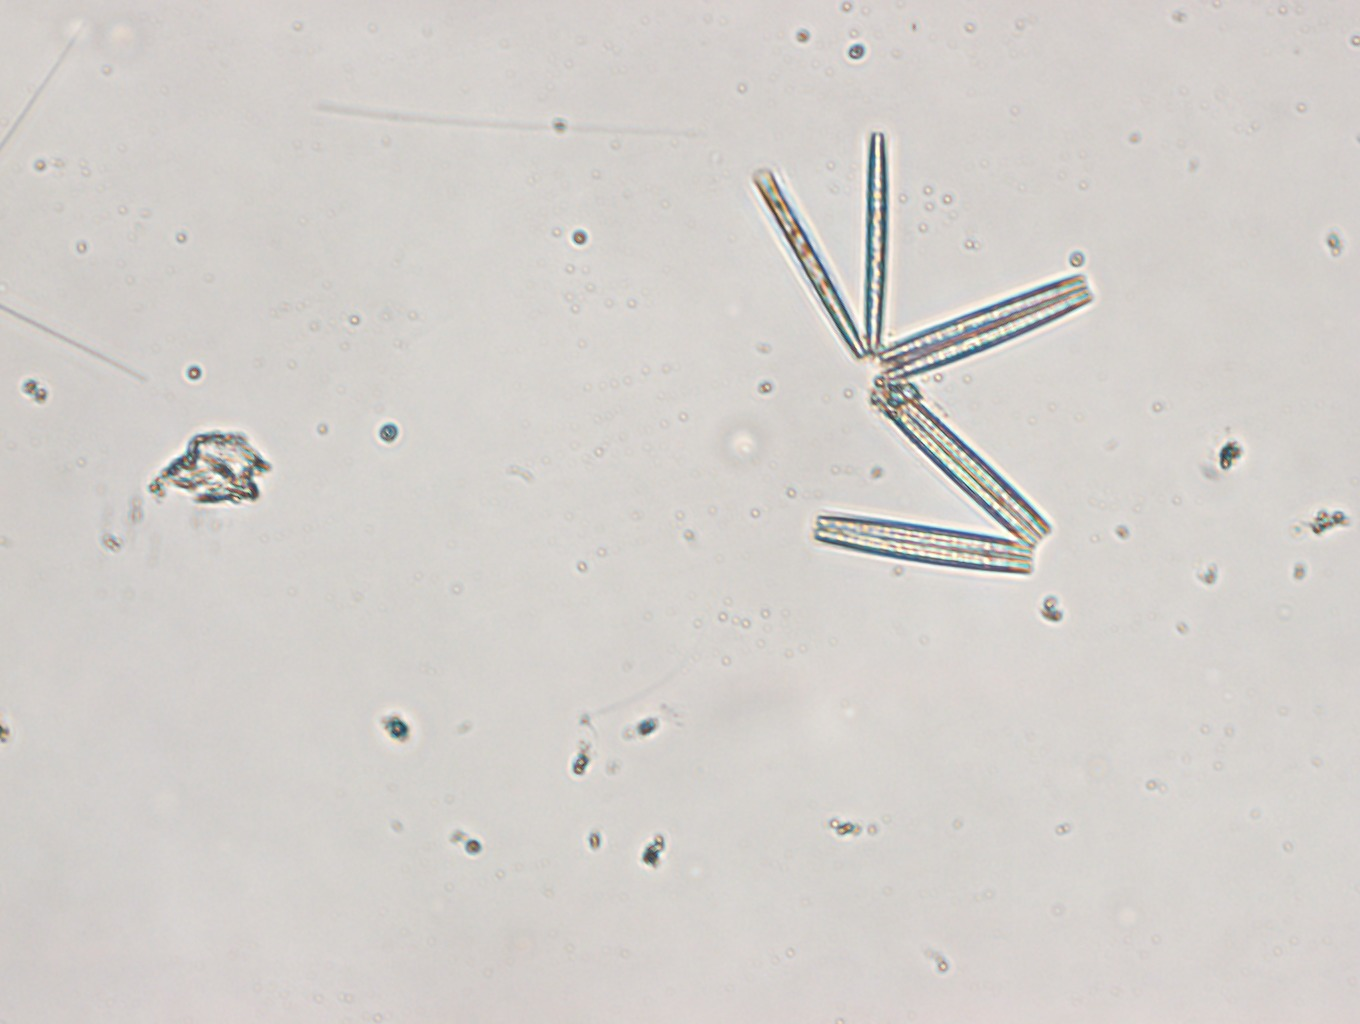thalassionema nitzschioides: (750, 136, 1096, 575)
